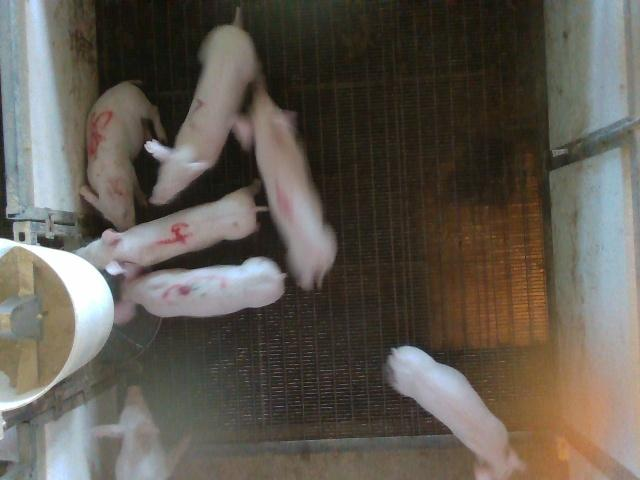pig-1: (232, 64, 336, 289)
pig-2: (145, 24, 259, 204)
pig-3: (115, 258, 285, 322)
pig-4: (75, 180, 265, 275)
pig-5: (80, 81, 166, 231)
